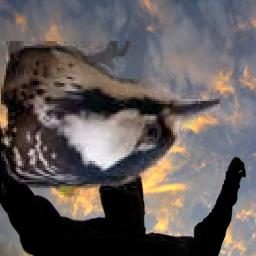Woodpecker: (2, 42, 221, 199)
